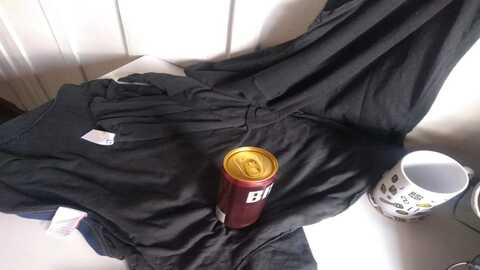duplo_malte: (217, 144, 278, 235)
